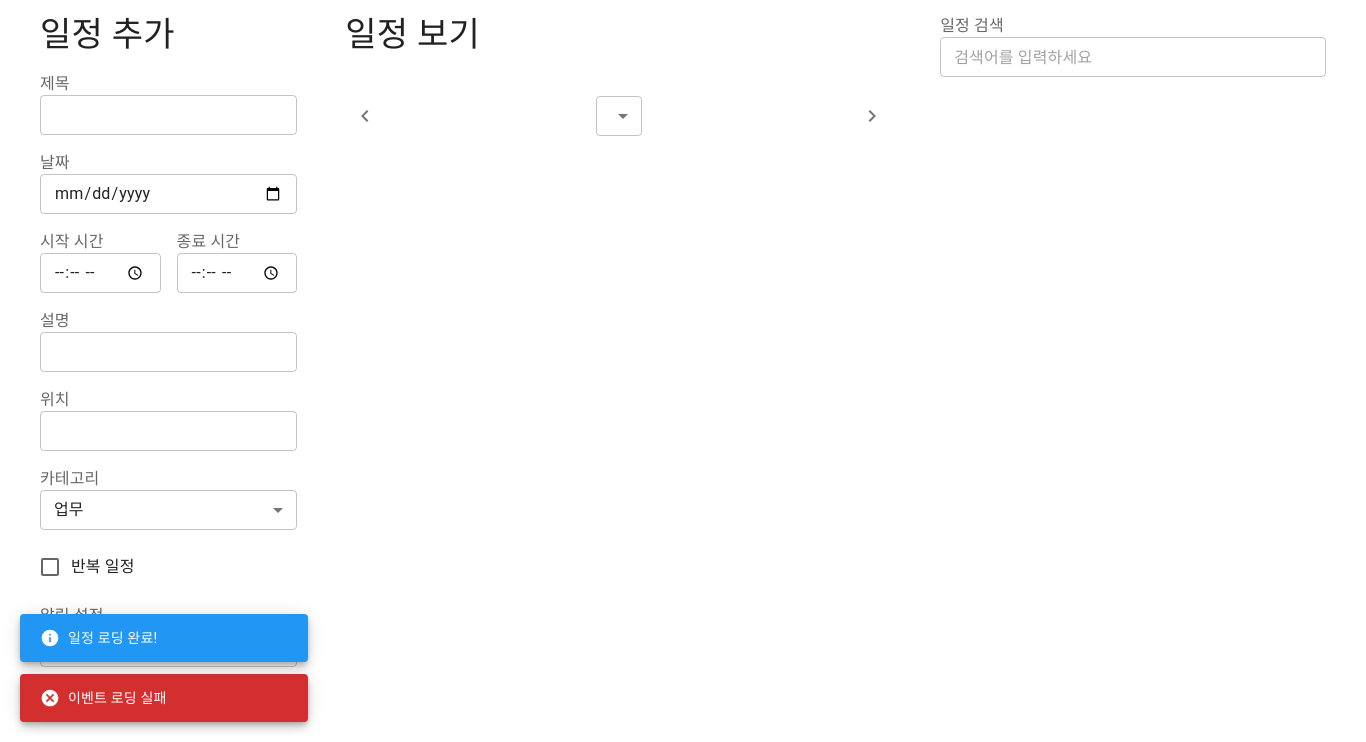
Test: 반복 일정 기능 - 반복 유형 선택 › 일정 생성, 수정 시 반복 유형을 선택할 수 있다
Click the checkbox labelled "반복 일정". click: (86, 567)
box: [38,555,135,579]
(page scrolled)
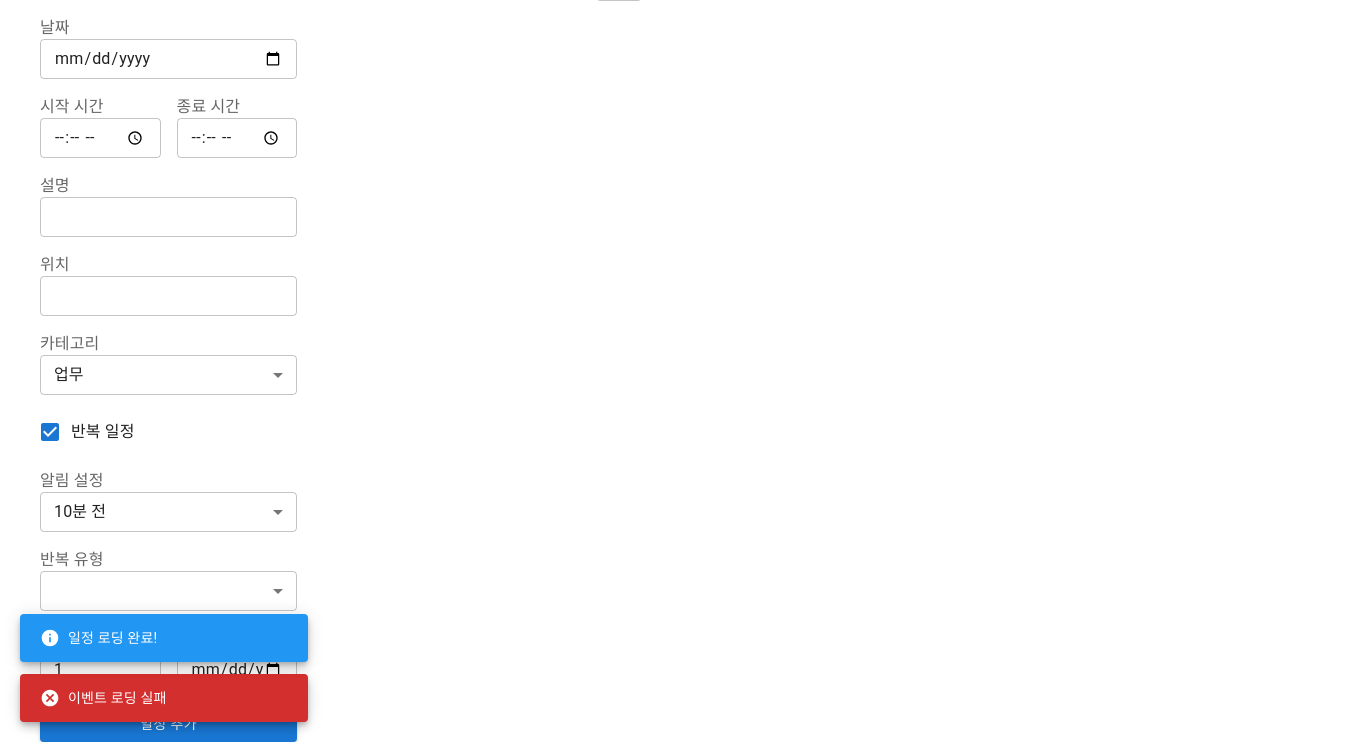
Result: the dropdown named "반복 유형" below "반복 유형" is shown at [40,571,297,611]
